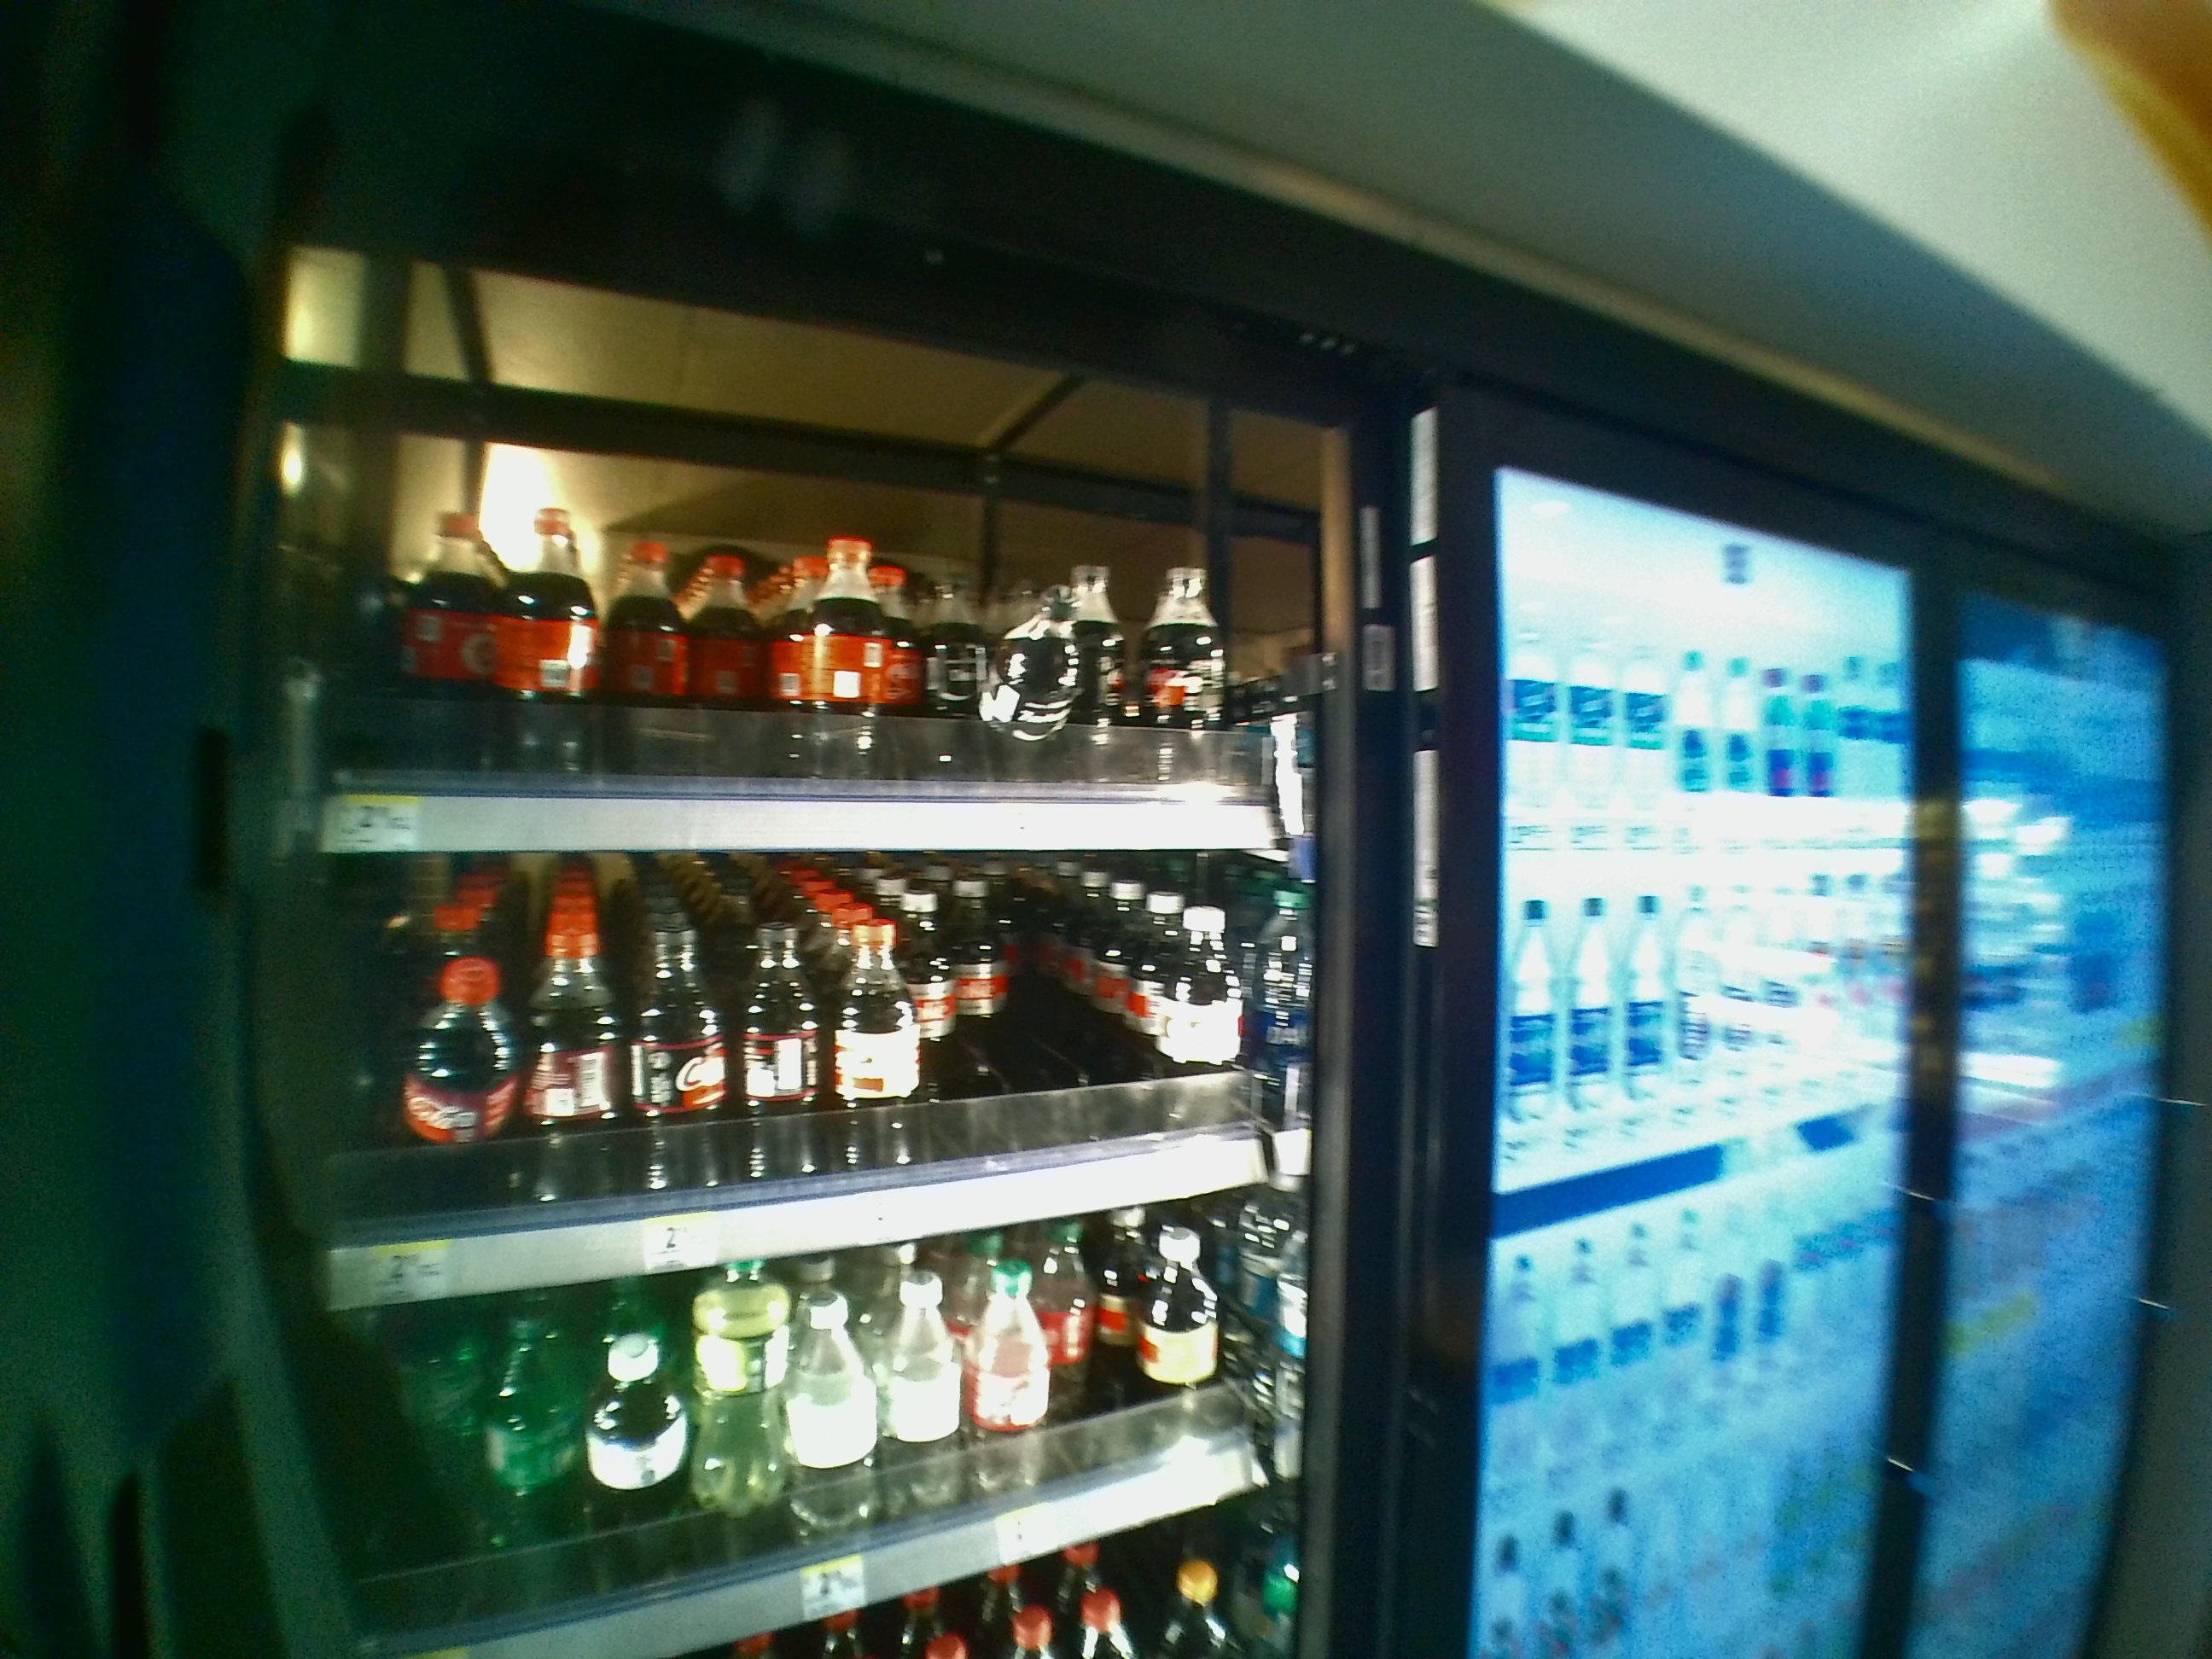shelf: (315, 368, 1327, 857)
